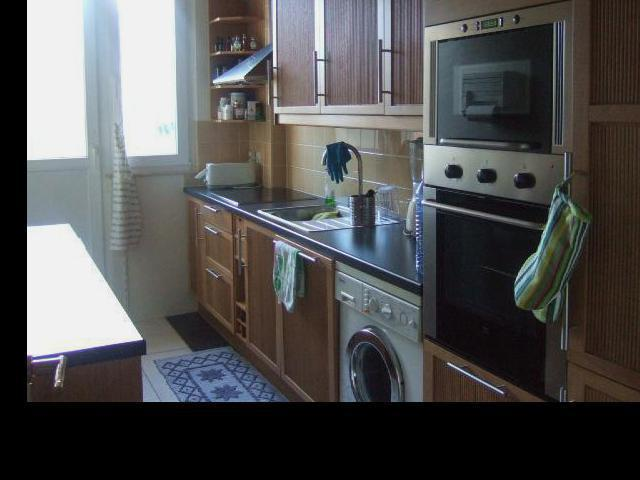Electrodomestico: (426, 27, 565, 396), (343, 255, 426, 398)
Lavaplatos: (274, 129, 395, 247)
Puerta: (29, 0, 104, 323)
